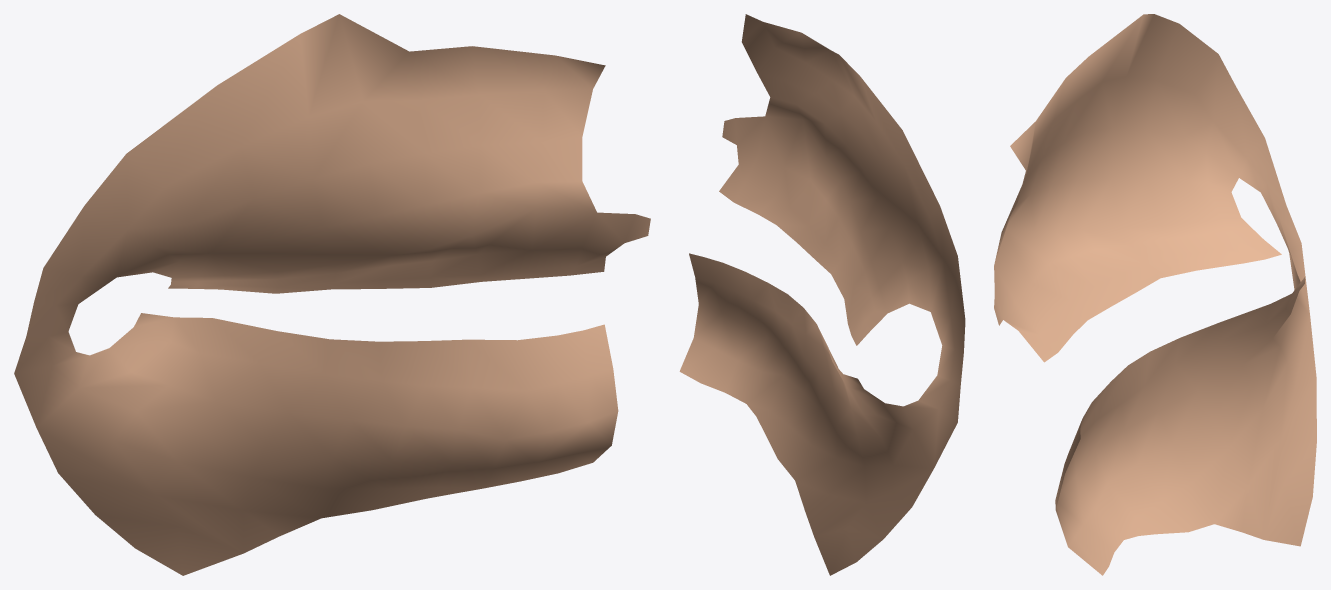
The model's file is oral-region-r.glb.
3 renders of one model, left to right at view 1: azimuth 30°, elevation 25°; view 2: azimuth 150°, elevation 25°; view 3: azimuth 270°, elevation 25°, orthographic. The views are drawn at different scales.
Visible parts, largest first — view 1: Oral region.r; view 2: Oral region.r; view 3: Oral region.r.
Boxes of the visible parts, <box> form: Oral region.r: <box>14,14,650,575</box>; Oral region.r: <box>679,14,965,575</box>; Oral region.r: <box>994,14,1316,575</box>.
Bounding box in the file's own units: 0.0341 × 0.0417 × 0.0216.
